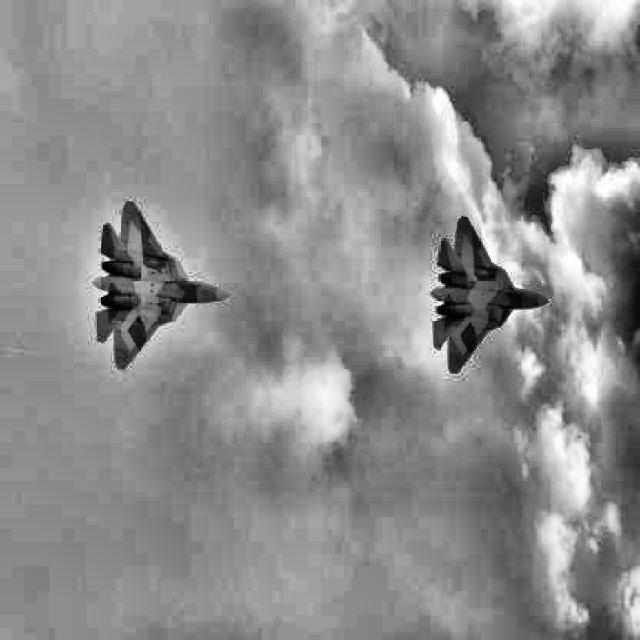Su57: (91, 200, 232, 371), (430, 215, 548, 374)
